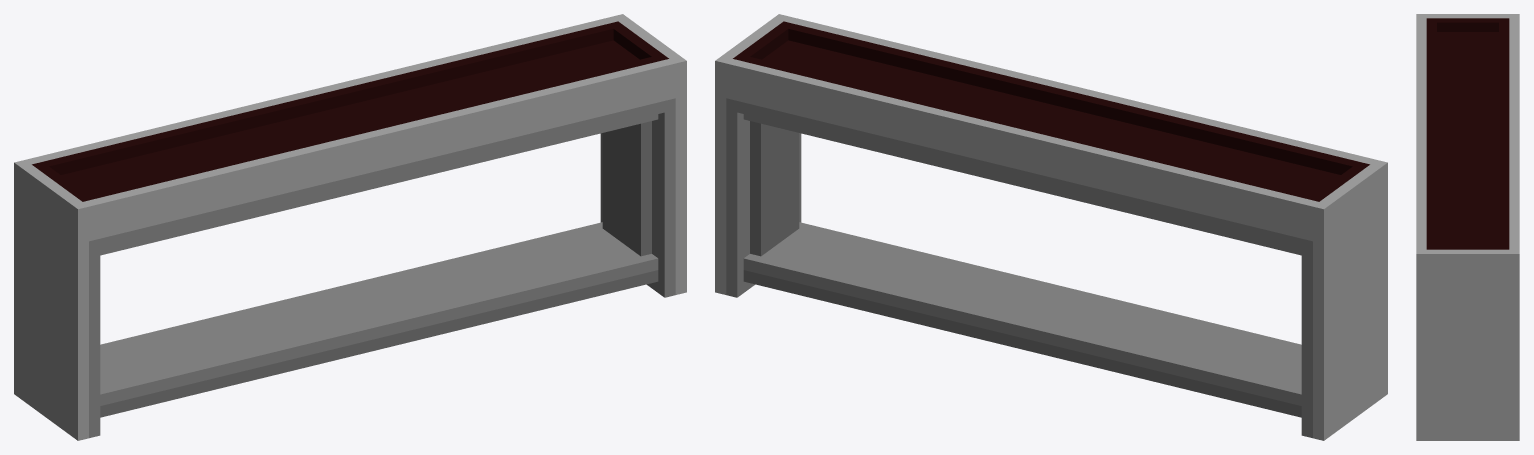
File: Green House Table 1.obj
3 renders of one model, left to right at view 1: azimuth 30°, elevation 25°; view 2: azimuth 150°, elevation 25°; view 3: azimuth 270°, elevation 25°, orthographic. The views are drawn at different scales.
Size of the model in its own units: 55 by 20 by 10.
1 material, 1 textured.
